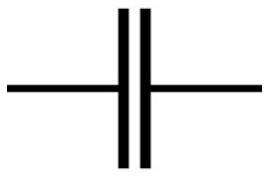Capacitor: (83, 6, 171, 169)
